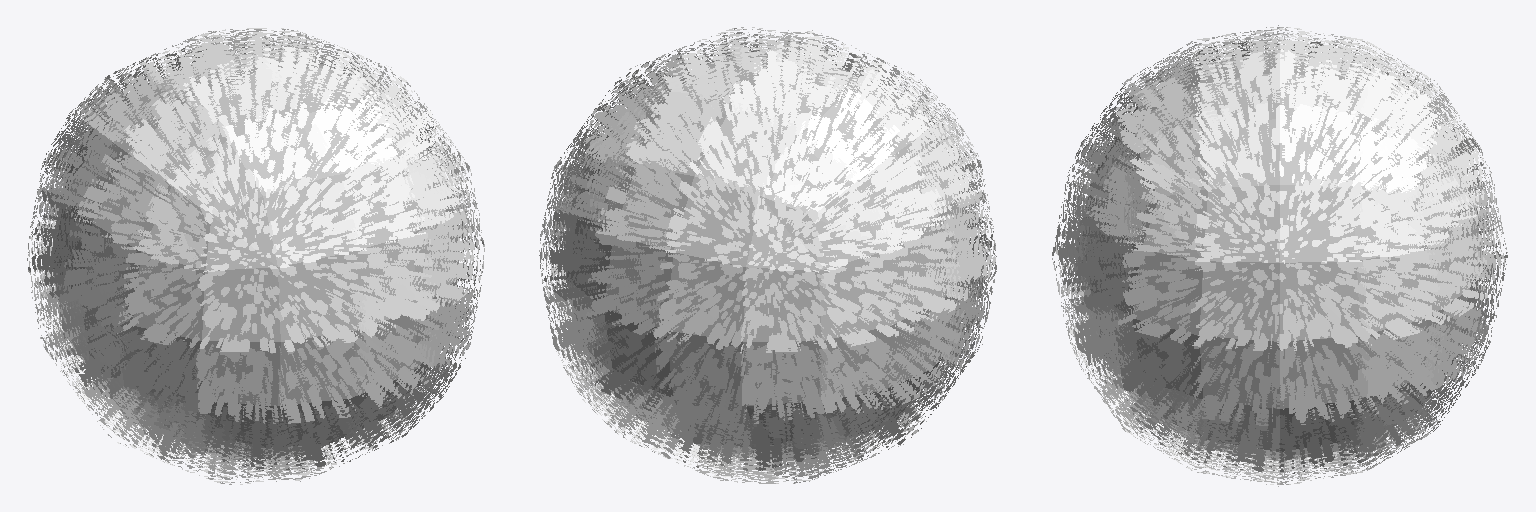
The picture shows the model from 3 angles: view 1: azimuth 30°, elevation 25°; view 2: azimuth 150°, elevation 25°; view 3: azimuth 270°, elevation 25°; orthographic projection.
Parts seen in each view (by area): view 1: Cube.005, Cube.006, Cube.004, Cube.003, Cube.002, Cube.001, Cube; view 2: Cube.005, Cube.006, Cube.004, Cube.003, Cube.002, Cube.001, Cube; view 3: Cube.005, Cube.006, Cube.004, Cube.003, Cube.002, Cube.001, Cube.
Boxes of the visible parts, x1,y1,x2,y2 form: Cube.005: [27, 28, 484, 484]; Cube.006: [53, 52, 458, 459]; Cube.004: [33, 33, 478, 478]; Cube.003: [37, 38, 474, 474]; Cube.002: [41, 41, 471, 471]; Cube.001: [44, 44, 467, 467]; Cube: [48, 48, 464, 464]; Cube.005: [539, 27, 996, 483]; Cube.006: [564, 52, 969, 459]; Cube.004: [545, 33, 990, 479]; Cube.003: [550, 37, 985, 473]; Cube.002: [553, 40, 983, 470]; Cube.001: [557, 44, 979, 467]; Cube: [560, 47, 973, 463]; Cube.005: [1052, 25, 1507, 486]; Cube.006: [1079, 52, 1482, 460]; Cube.004: [1058, 31, 1501, 480]; Cube.003: [1063, 36, 1496, 475]; Cube.002: [1065, 40, 1494, 471]; Cube.001: [1068, 42, 1490, 469]; Cube: [1073, 46, 1487, 465].
Bounding box in the file's own units: 1.83 × 1.83 × 1.83.
2 materials, 1 textured.